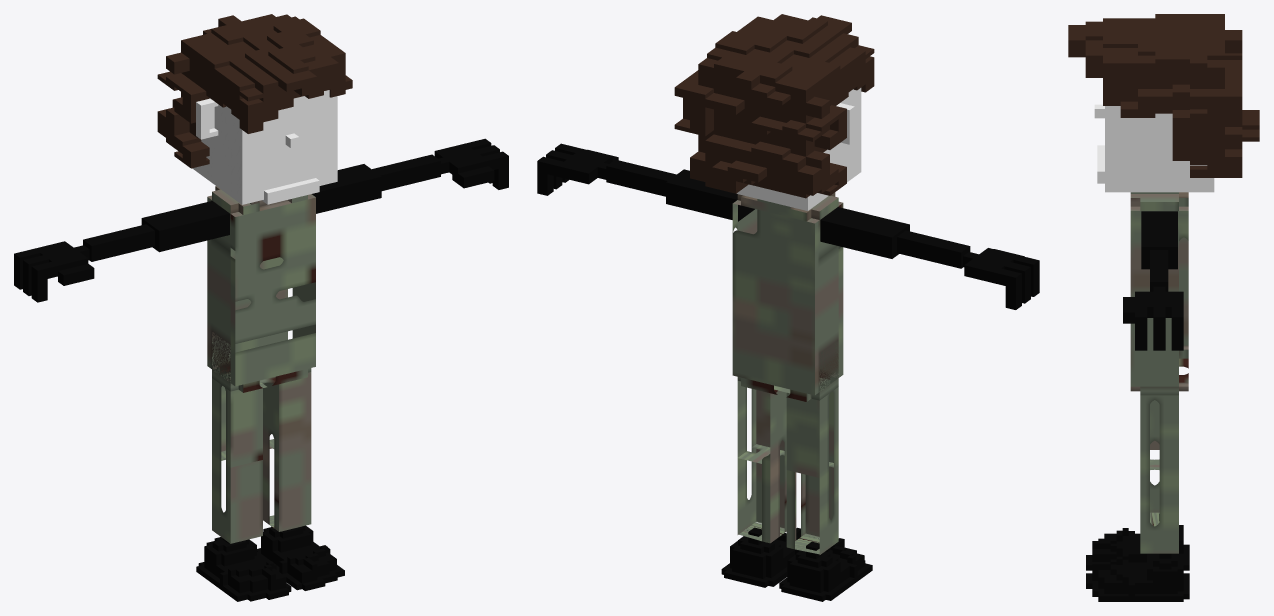
The model's file is Guy.fbx.
3 renders of one model, left to right at view 1: azimuth 30°, elevation 25°; view 2: azimuth 150°, elevation 25°; view 3: azimuth 270°, elevation 25°, orthographic. The views are drawn at different scales.
Parts seen in each view (by area): view 1: Torso, Hair, Head, RightFoot, Untitled, RightLowerLeg, LeftFoot, LeftLowerLeg, LeftUpperLeg, RightHand, RightUpperArm, LeftHand (+3 smaller); view 2: Hair, Torso, Untitled, LeftLowerLeg, RightLowerLeg, RightFoot, RightUpperArm, LeftUpperLeg, RightHand, LeftFoot, Head, LeftHand (+3 smaller); view 3: Hair, Torso, Head, LeftFoot, LeftHand, LeftUpperLeg, LeftLowerLeg, RightFoot, LeftUpperArm, LeftLowerArm, RightLowerLeg.
Part boxes in pixels (<box>): Torso: <box>207,186,315,392</box>; Hair: <box>157,14,352,168</box>; Head: <box>192,90,337,204</box>; RightFoot: <box>196,537,291,601</box>; Untitled: <box>212,374,262,467</box>; RightLowerLeg: <box>212,450,262,543</box>; LeftFoot: <box>257,525,344,590</box>; LeftLowerLeg: <box>263,439,311,531</box>; LeftUpperLeg: <box>263,372,311,455</box>; RightHand: <box>14,241,94,302</box>; RightUpperArm: <box>141,201,229,252</box>; LeftHand: <box>434,138,508,189</box>; Hair: <box>674,14,874,198</box>; Torso: <box>732,192,843,401</box>; Untitled: <box>786,382,838,477</box>; LeftLowerLeg: <box>737,444,786,543</box>; RightLowerLeg: <box>786,462,838,554</box>; RightFoot: <box>779,538,872,601</box>; RightUpperArm: <box>820,207,909,258</box>; LeftUpperLeg: <box>737,381,786,465</box>; RightHand: <box>963,248,1039,309</box>; LeftFoot: <box>721,527,800,587</box>; Head: <box>736,88,861,210</box>; LeftHand: <box>537,143,618,195</box>; Hair: <box>1068,14,1259,177</box>; Torso: <box>1130,192,1188,395</box>; Head: <box>1094,104,1214,192</box>; LeftFoot: <box>1086,553,1189,601</box>; LeftHand: <box>1123,286,1183,350</box>; LeftUpperLeg: <box>1140,395,1178,474</box>; LeftLowerLeg: <box>1140,459,1178,553</box>; RightFoot: <box>1086,514,1189,570</box>; LeftUpperArm: <box>1141,211,1177,269</box>; LeftLowerArm: <box>1150,250,1168,291</box>; RightLowerLeg: <box>1150,481,1159,526</box>.
Bounding box in the file's own units: 2782 × 2958 × 942.
